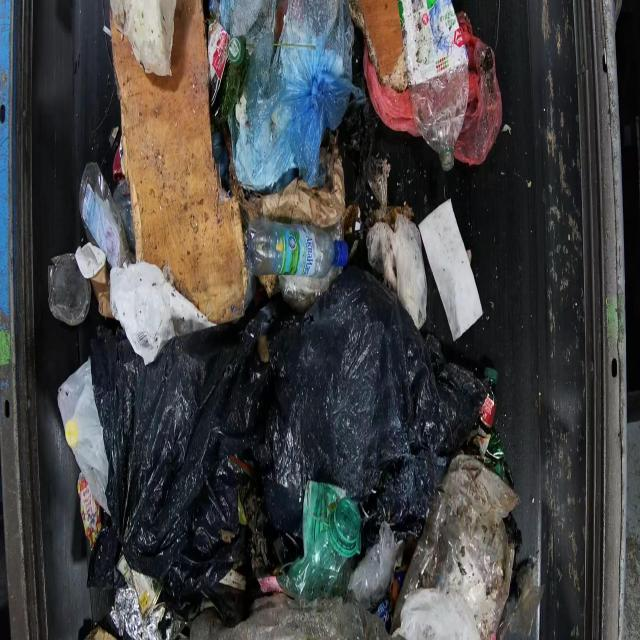cardboard: (105, 0, 252, 325)
cups: (244, 217, 349, 277)
other-trash: (48, 0, 531, 638)
